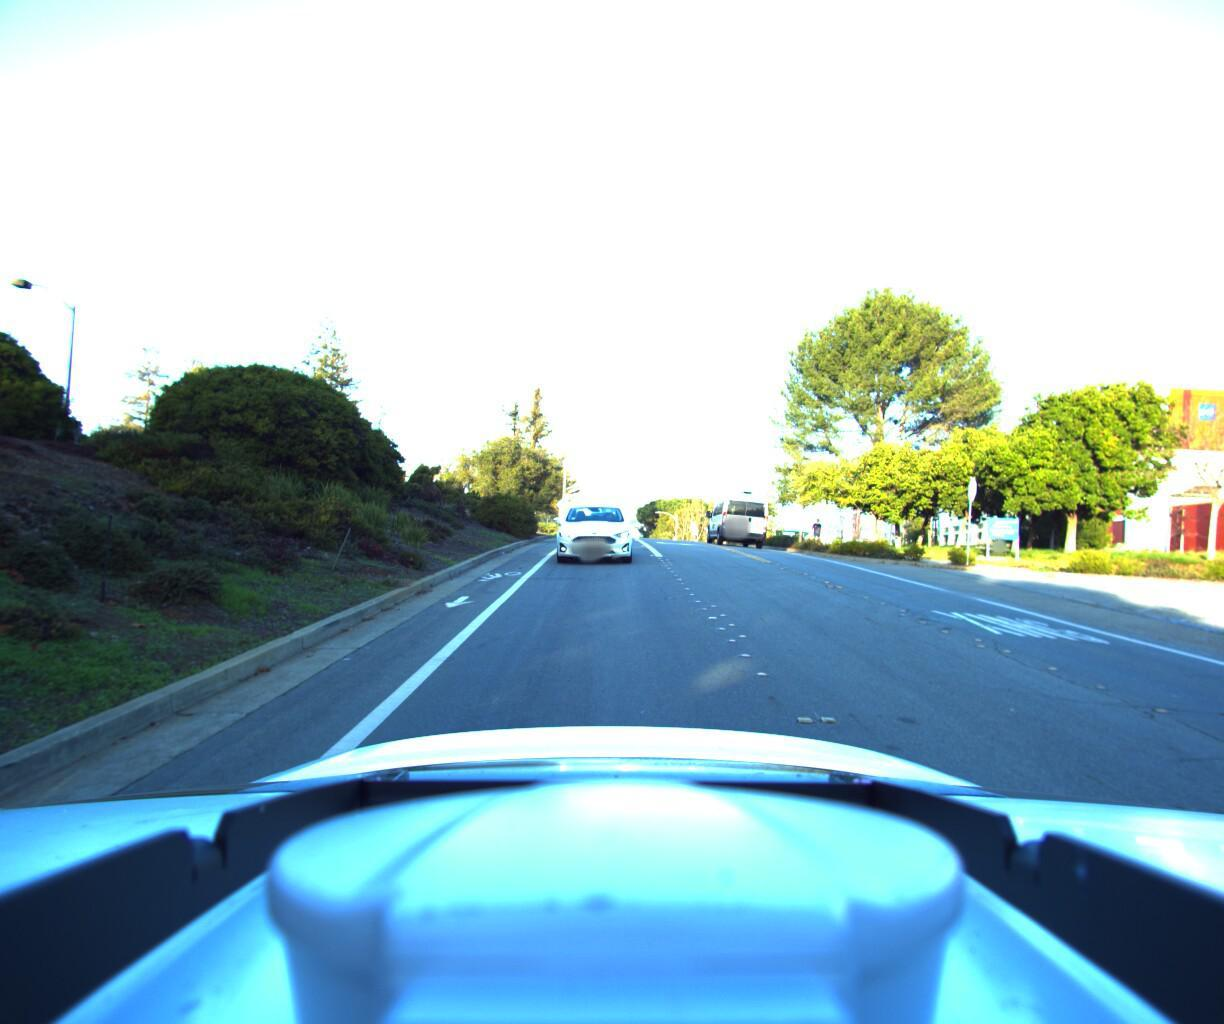car: (542, 492, 639, 573), (702, 486, 768, 550)
